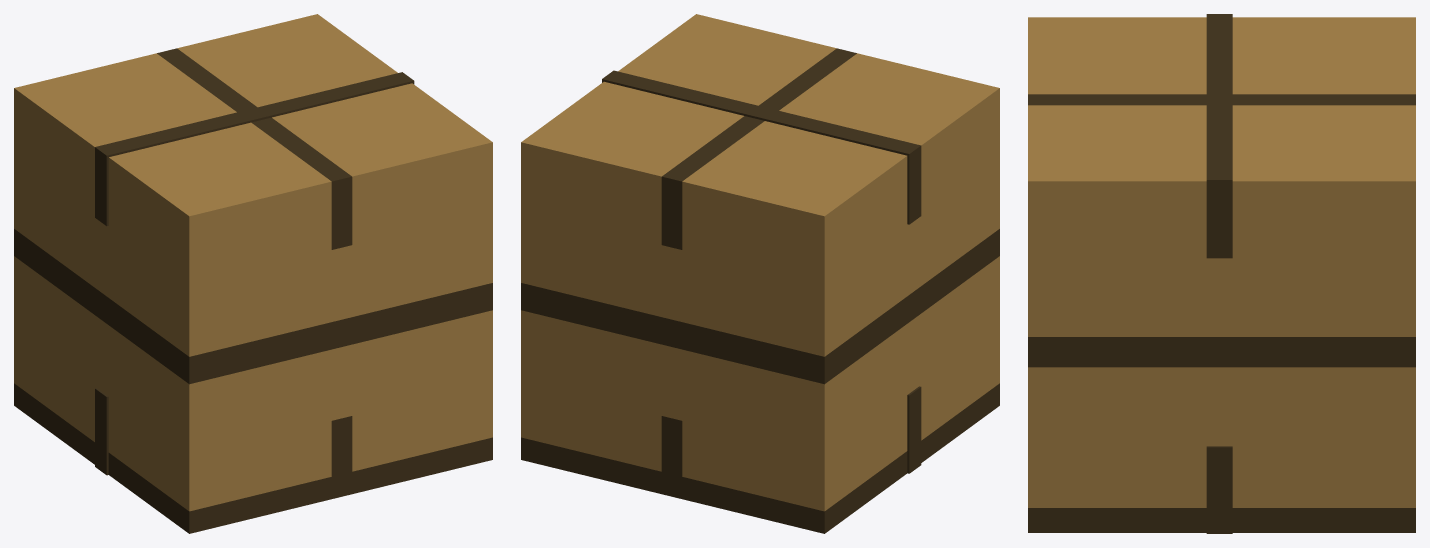
The model's file is carton 4 (1).FBX.
The picture shows the model from 3 angles, left to right: view 1: azimuth 30°, elevation 25°; view 2: azimuth 150°, elevation 25°; view 3: azimuth 270°, elevation 25°; orthographic projection. The views are drawn at different scales.
Visible parts, largest first — view 1: carton3; view 2: carton3; view 3: carton3.
Part boxes in pixels (x1,y1,x2,y2): carton3: (14,14,492,533); carton3: (521,14,999,533); carton3: (1028,14,1415,533).
Bounding box in the file's own units: 142 × 141 × 140.
